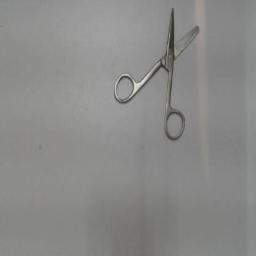Dressing Scissors: (110, 2, 206, 146)
